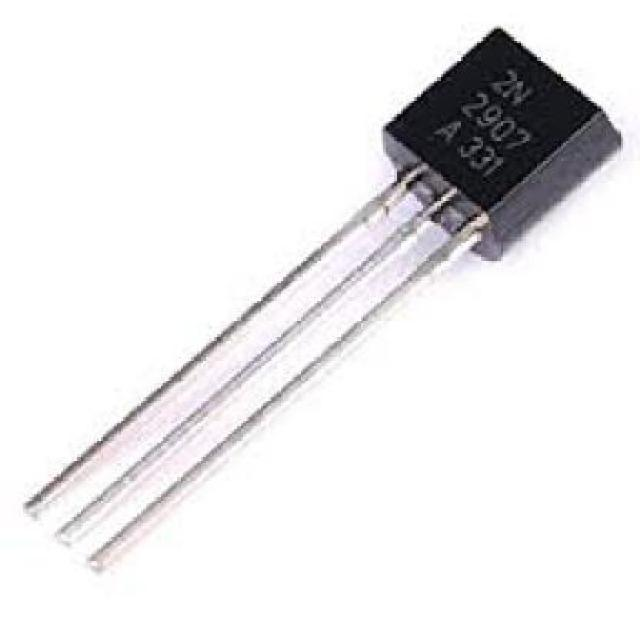Transistor: (25, 28, 622, 575)
